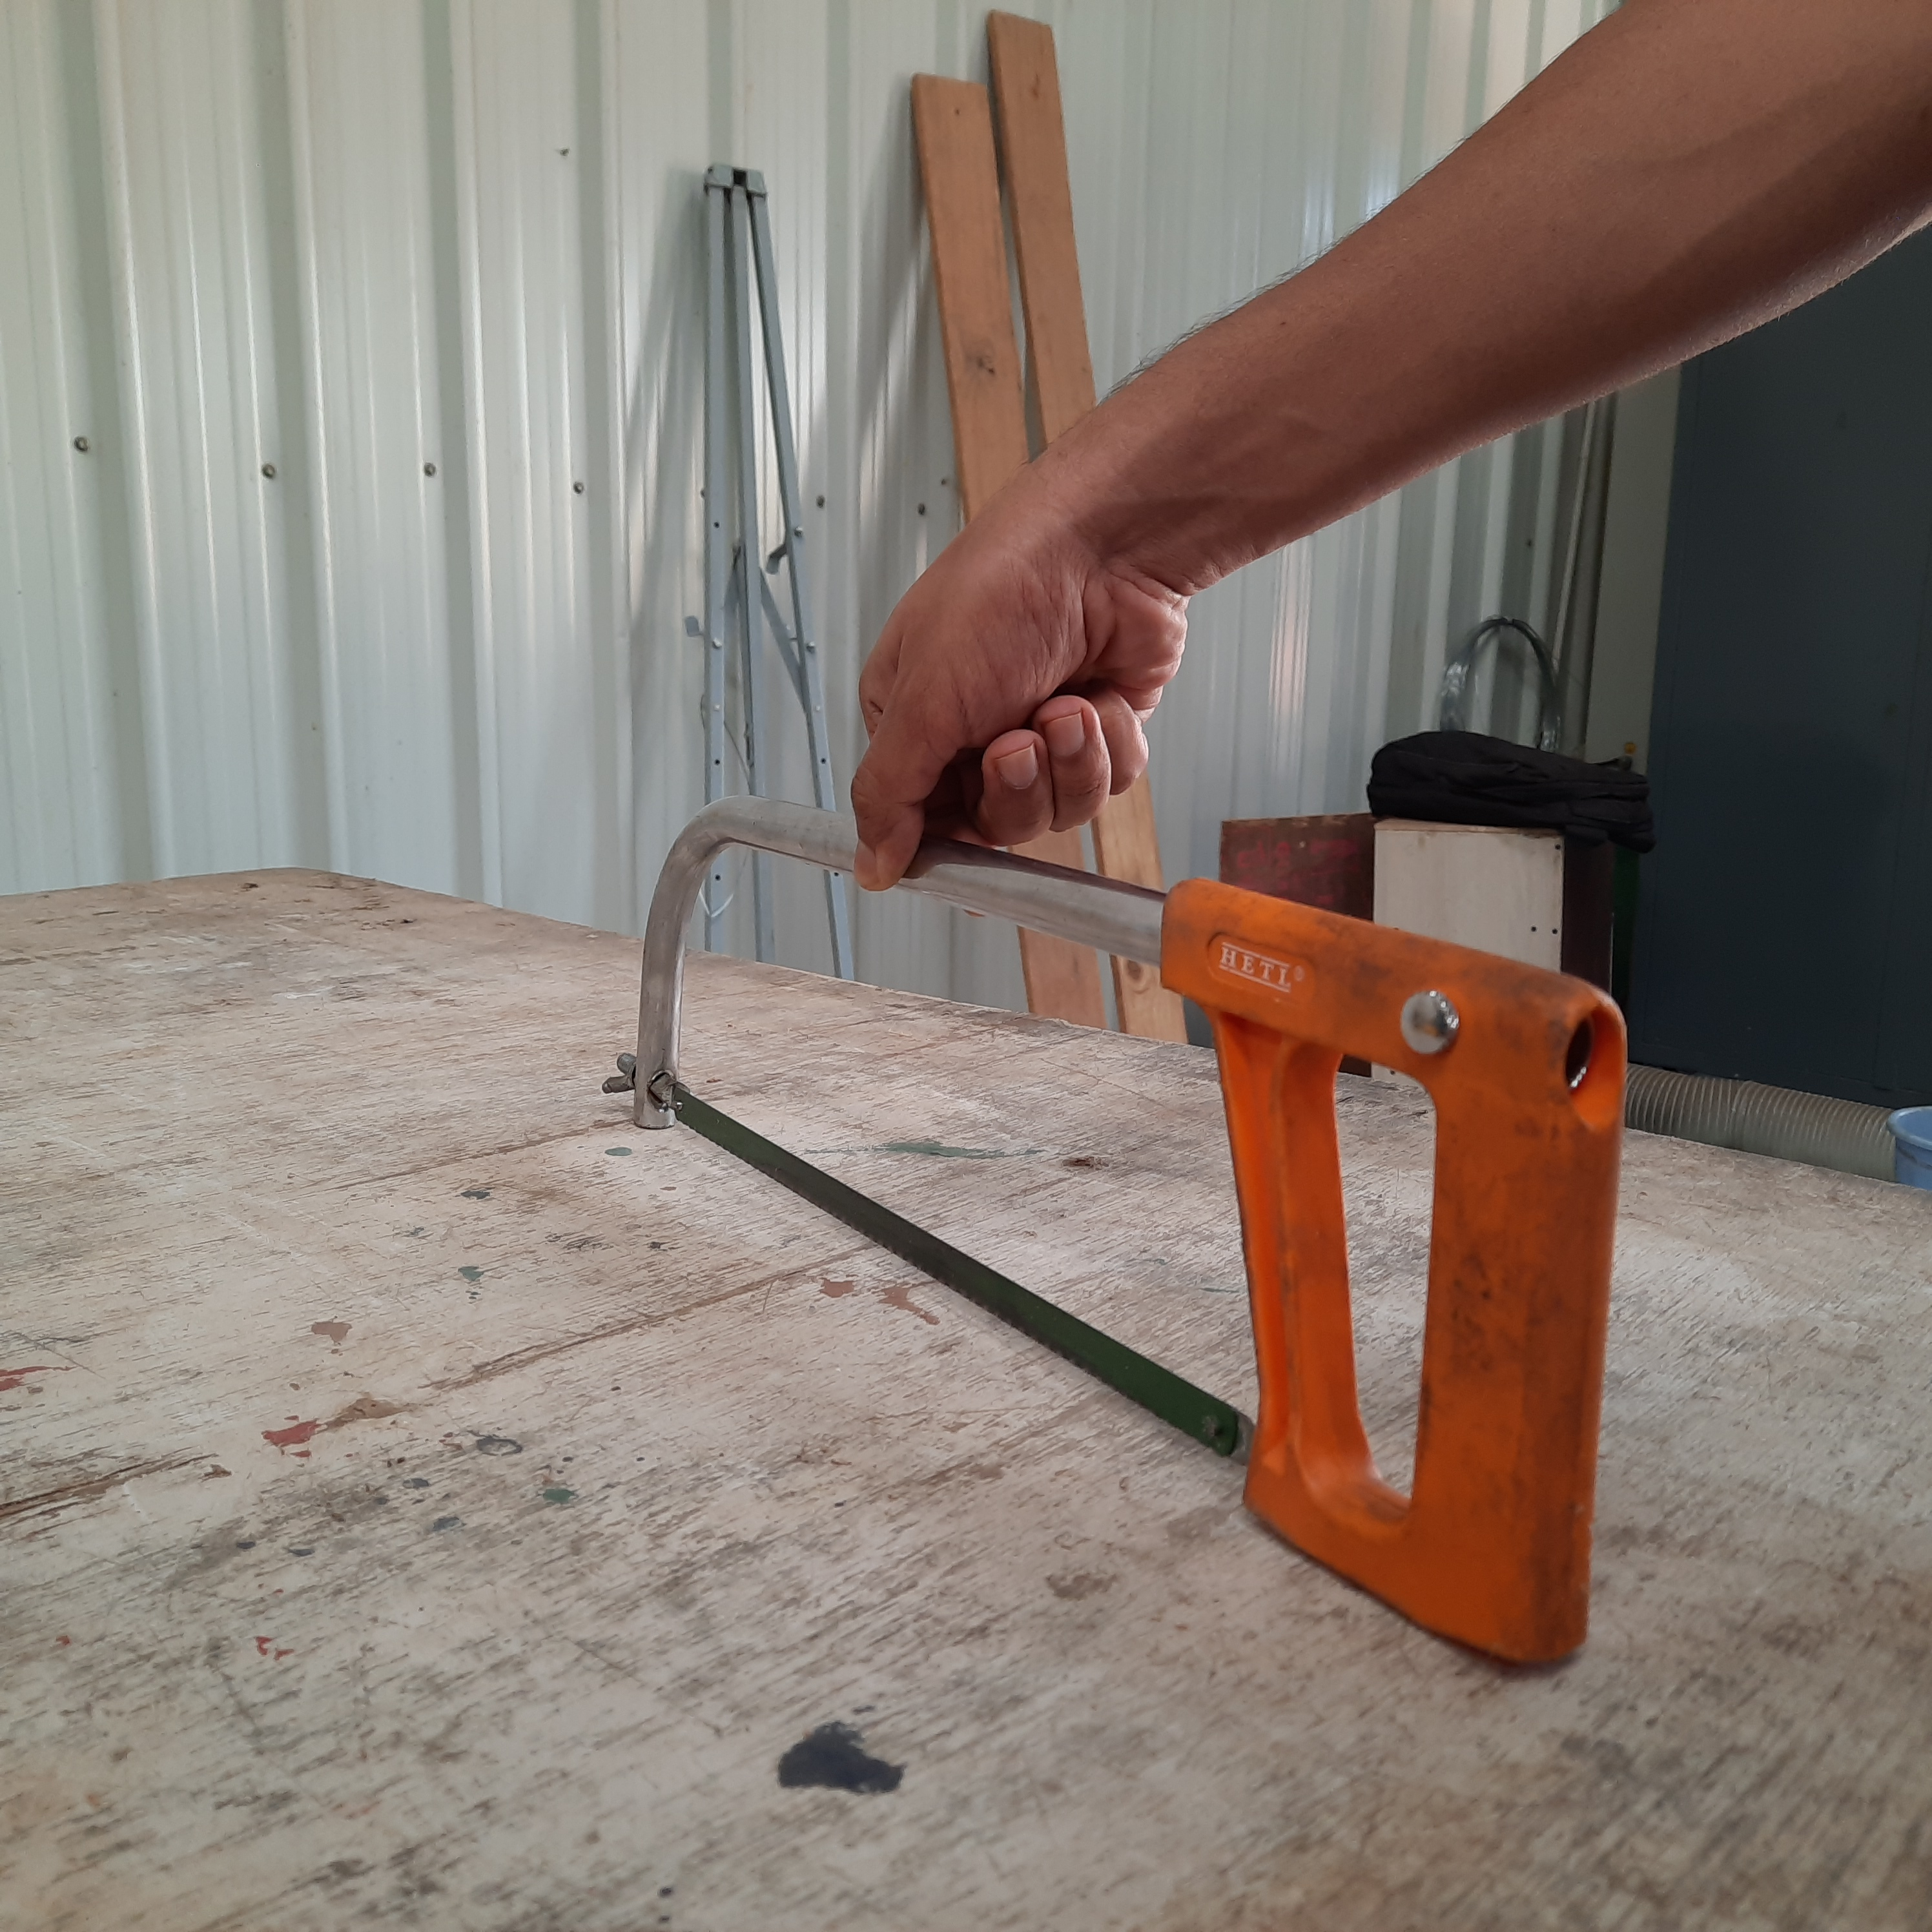Hexaframe: (607, 793, 1629, 1693)
